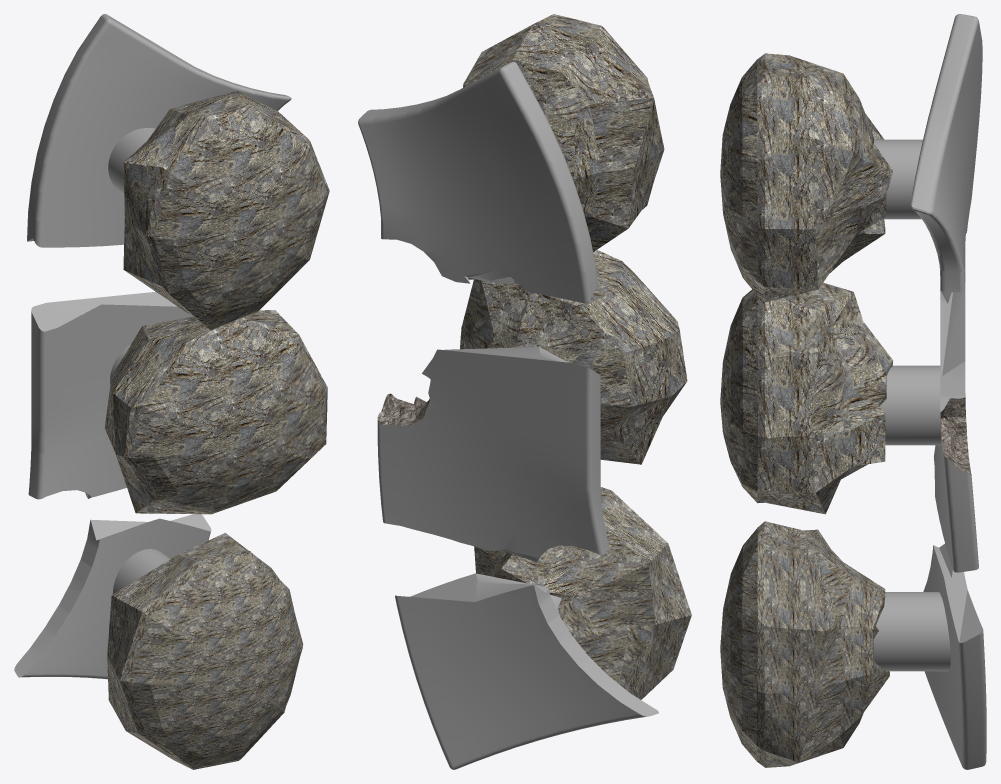
Rendered from modelConcreteBridgeBroken.fbx.
3 renders of one model, left to right at view 1: azimuth 30°, elevation 25°; view 2: azimuth 150°, elevation 25°; view 3: azimuth 270°, elevation 25°, orthographic. The views are drawn at different scales.
Parts seen in each view (by area): view 1: polySurface35; view 2: polySurface35; view 3: polySurface35.
Boxes of the visible parts, bbox=[...] form: polySurface35: bbox=[14, 14, 329, 769]; polySurface35: bbox=[358, 14, 691, 769]; polySurface35: bbox=[720, 14, 986, 769].
Bounding box in the file's own units: 128 × 301 × 99.19.
